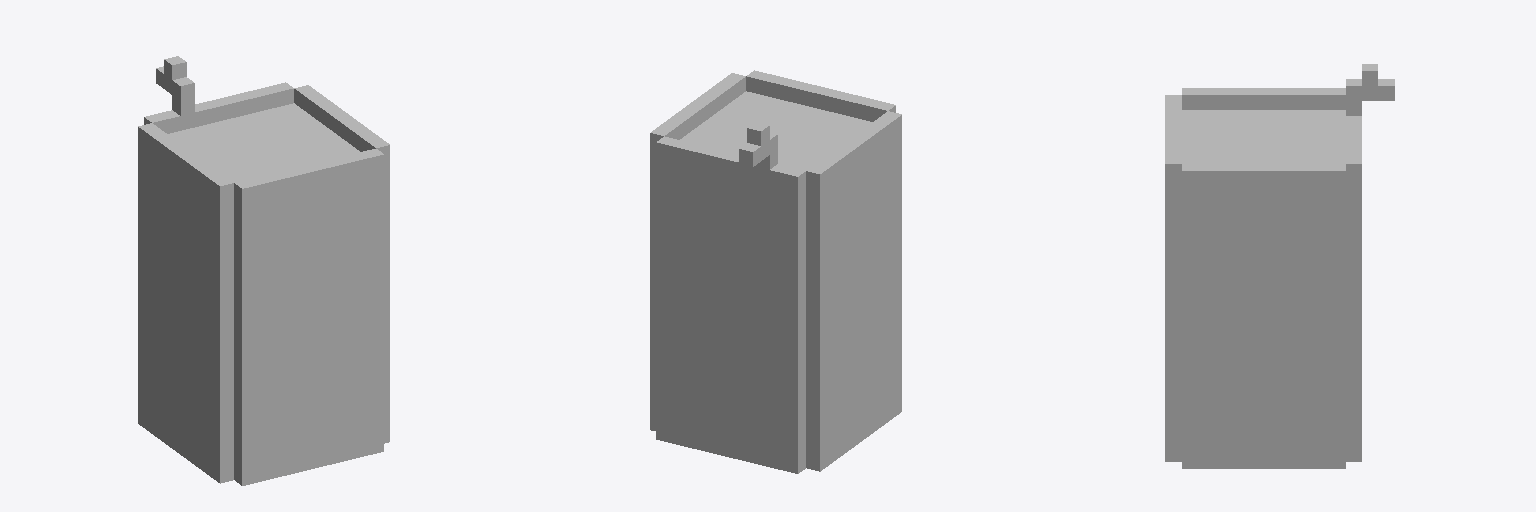
Rendered from Wood.obj.
The picture shows the model from 3 angles: view 1: azimuth 30°, elevation 25°; view 2: azimuth 150°, elevation 25°; view 3: azimuth 270°, elevation 25°; orthographic projection.
Visible parts, largest first — view 1: object 1; view 2: object 1; view 3: object 1.
Part boxes in pixels (left/top/right/bottom): object 1: left=138, top=56, right=389, bottom=485; object 1: left=650, top=70, right=901, bottom=473; object 1: left=1165, top=64, right=1394, bottom=468.
Size of the model in its own units: 1.2 by 2.3 by 1.4.